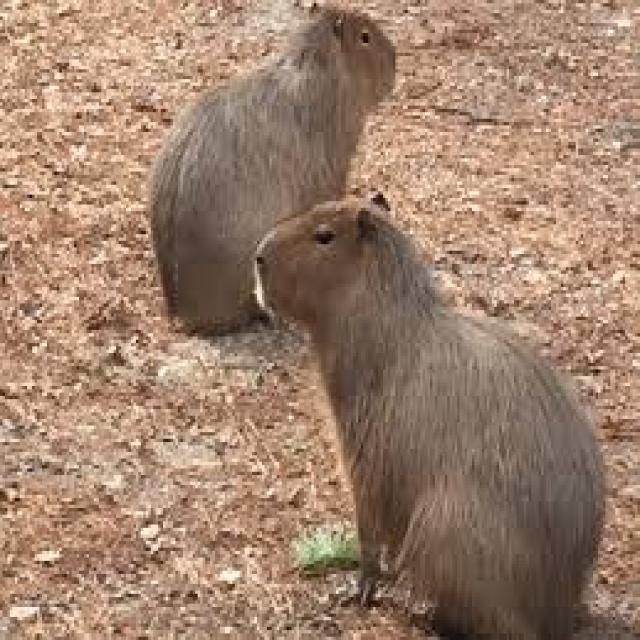capy: (247, 188, 606, 640), (144, 0, 398, 333)
